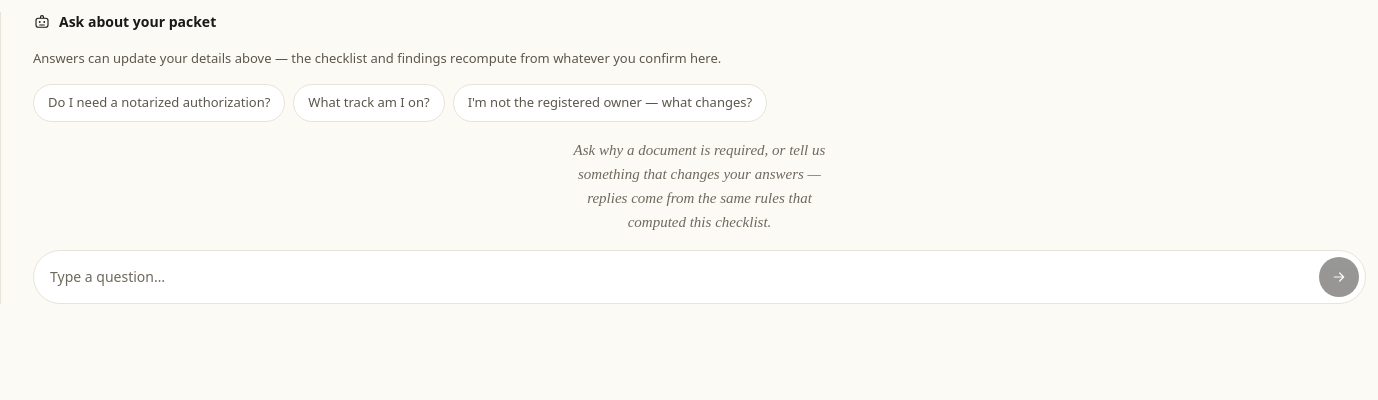
Test case: PermitChatSidebar › does not push an applicant change when the reply left the answers alone
Type "Why is the barangay clearance required?" into the field with placeholder "Type a question…".
click(680, 276); type("Why is the barangay clearance required?")  # box [50,266,1311,286]
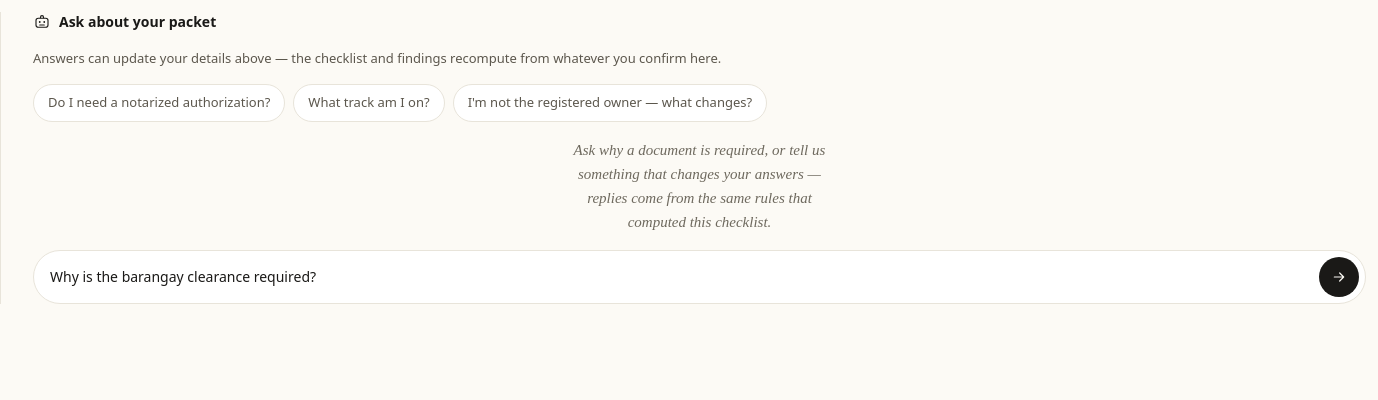
Click the button named "Send question".
click(1339, 276)  # box [1319,256,1359,296]
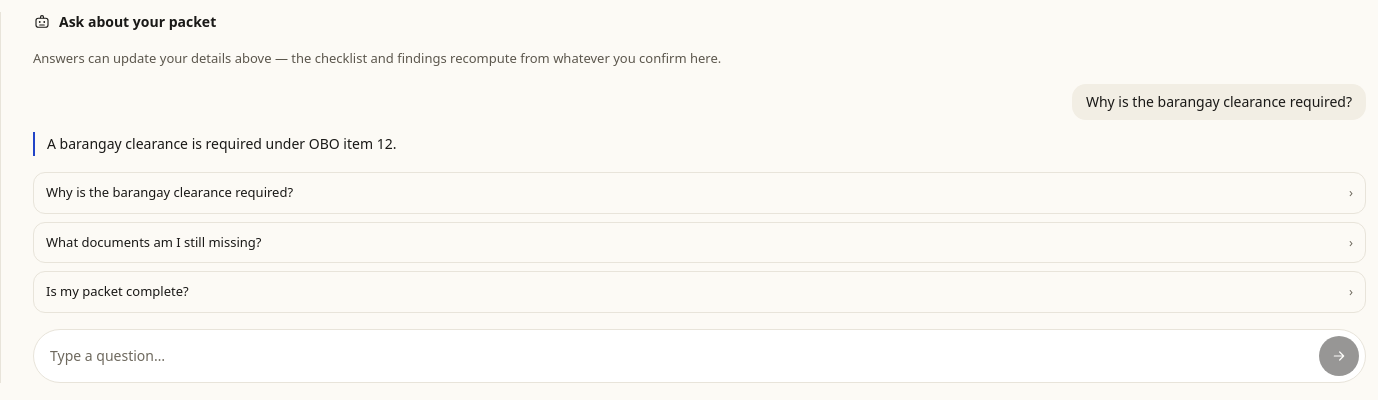
Expected: the text "A barangay clearance is required under OBO item 12." is shown, [33,132,1366,156]
